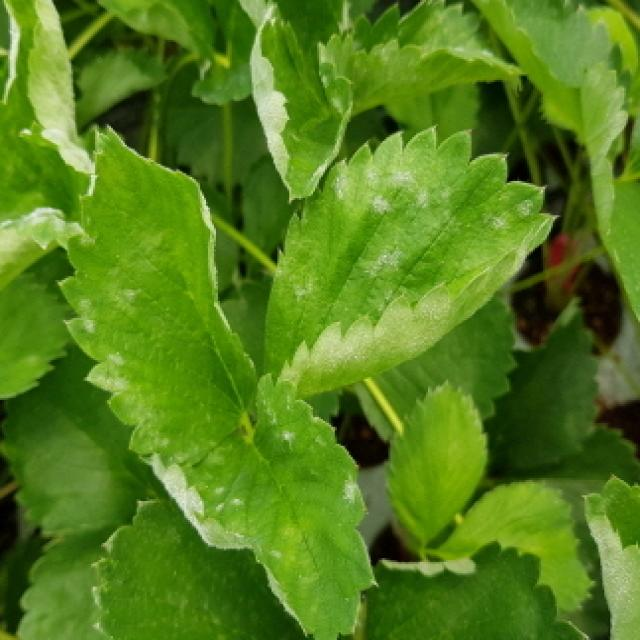Powdery Mildew Leaf: (260, 124, 561, 395), (58, 126, 257, 470), (146, 374, 378, 640), (248, 0, 354, 206), (0, 0, 91, 223), (577, 61, 640, 324), (0, 209, 80, 399), (583, 475, 640, 640), (277, 0, 349, 51)
